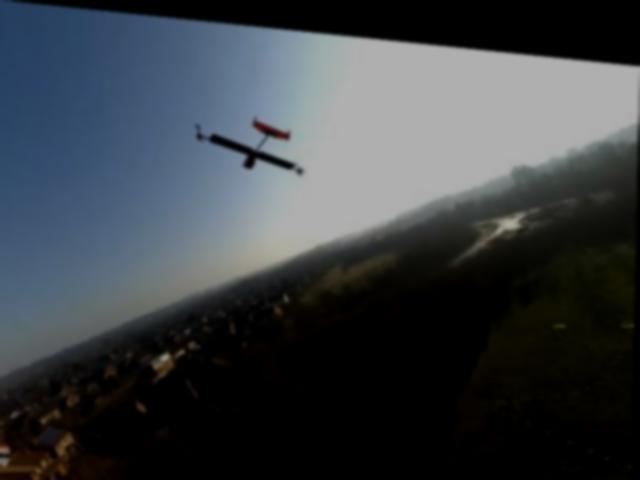uav: (186, 101, 311, 184)
